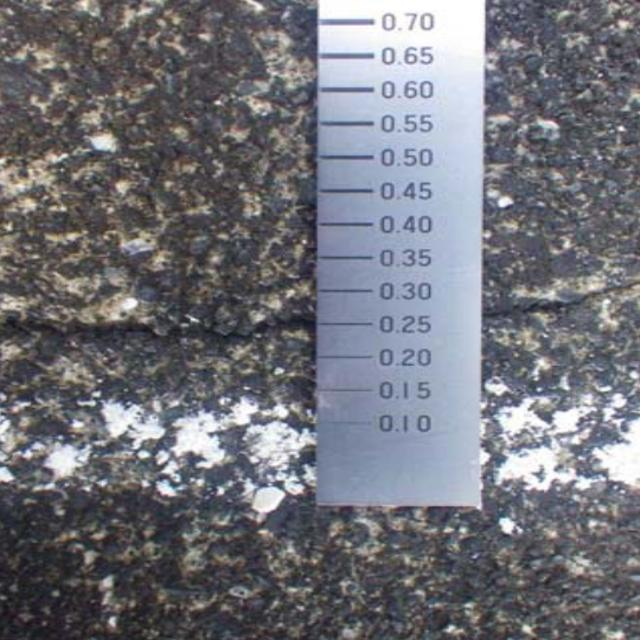crack: (6, 293, 317, 376), (494, 251, 637, 366)
